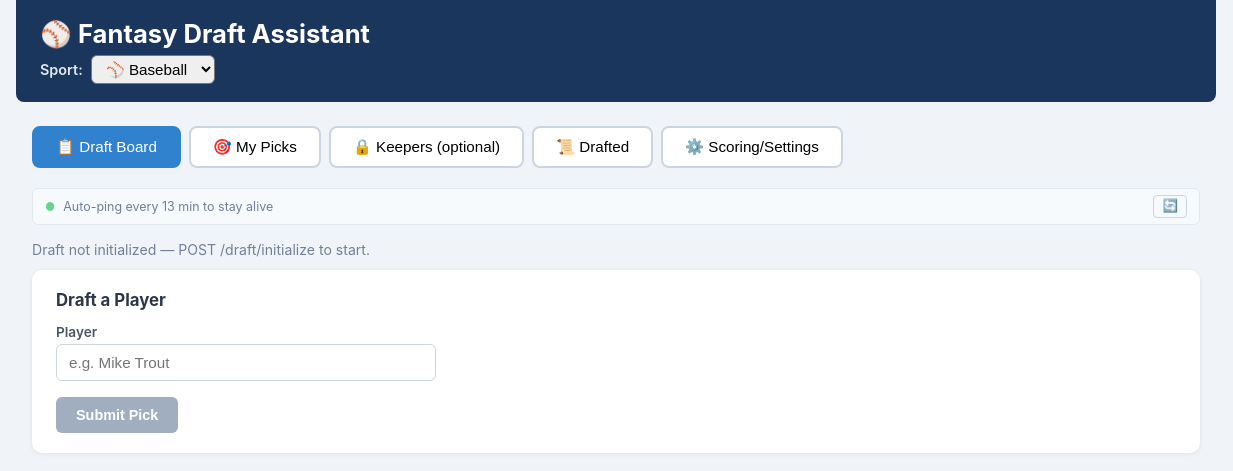
it: Draft tab — submit pick › Submit Pick becomes enabled as soon as text is typed
In the field with placeholder "e.g. Mike Trout": (246,363) [56,344,436,382], type "M"
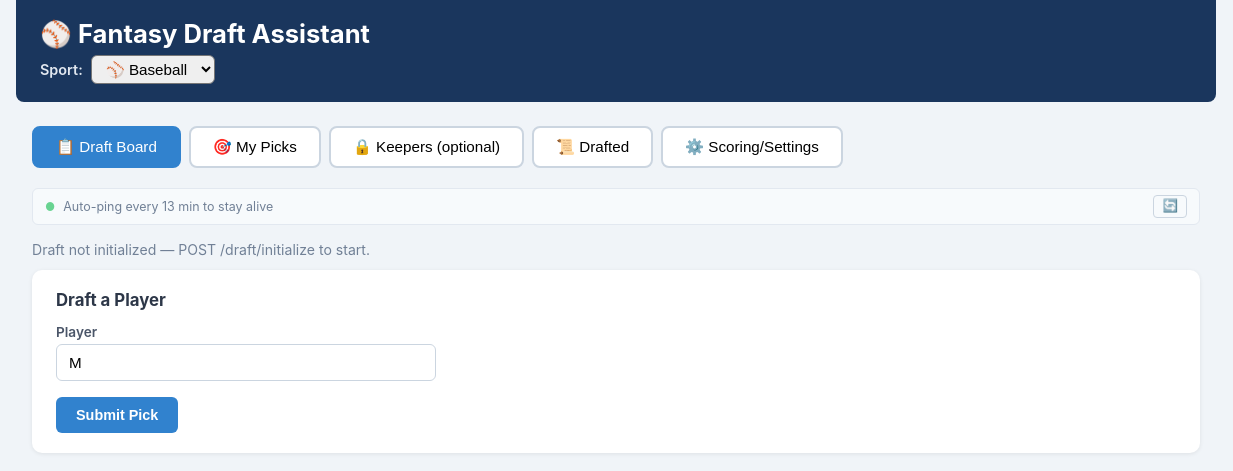
Now the button "Submit Pick" is enabled, box [56,398,178,434]
